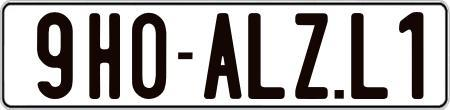0: (131, 11, 165, 98)
1: (397, 9, 427, 96)
9: (37, 11, 75, 103)
A: (203, 13, 247, 101)
H: (89, 12, 121, 104)
L: (247, 13, 287, 100), (348, 10, 385, 101)
Z: (294, 12, 331, 104)
